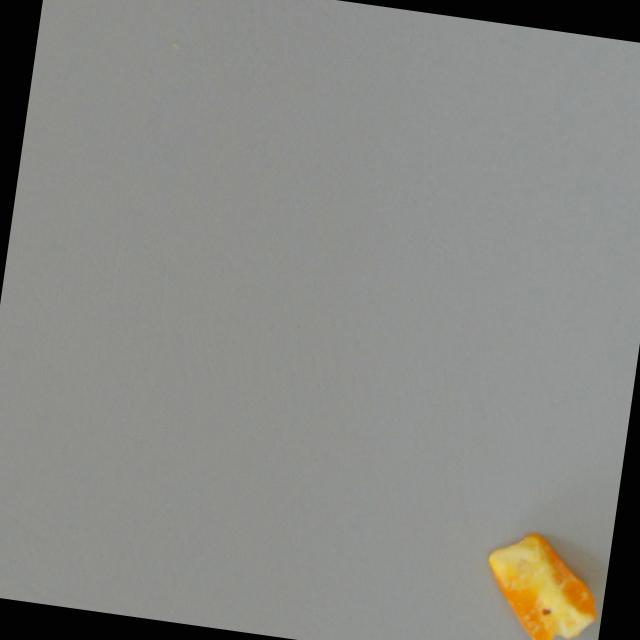punto_negro: (475, 527, 606, 640)
